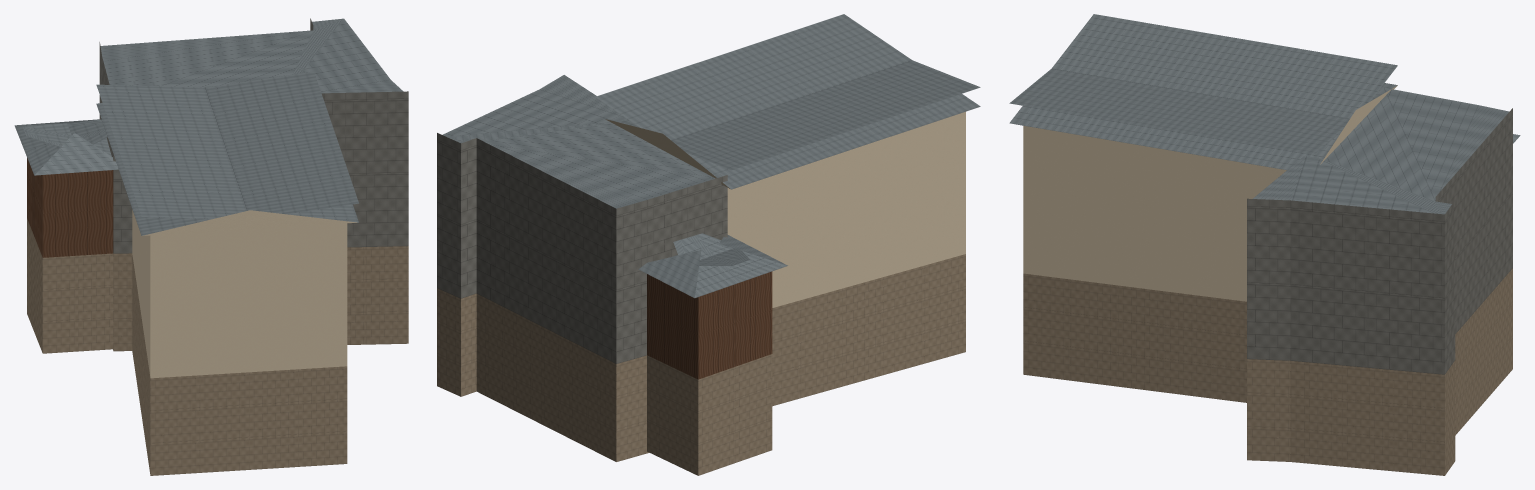
The model's file is bld_c30_-40_469.gltf.
3 views of the same model, side by side, from view 1: azimuth 30°, elevation 25°; view 2: azimuth 150°, elevation 25°; view 3: azimuth 270°, elevation 25° (orthographic). The views are drawn at different scales.
Parts seen in each view (by area): view 1: bld_c30_-40_469; view 2: bld_c30_-40_469; view 3: bld_c30_-40_469.
Part boxes in pixels (x1,y1,x2,y2): bld_c30_-40_469: (14, 18, 408, 475); bld_c30_-40_469: (437, 14, 980, 475); bld_c30_-40_469: (1009, 14, 1520, 475).
Size of the model in its own units: 20.33 by 13.8 by 23.36.
7 materials, 7 textured.
